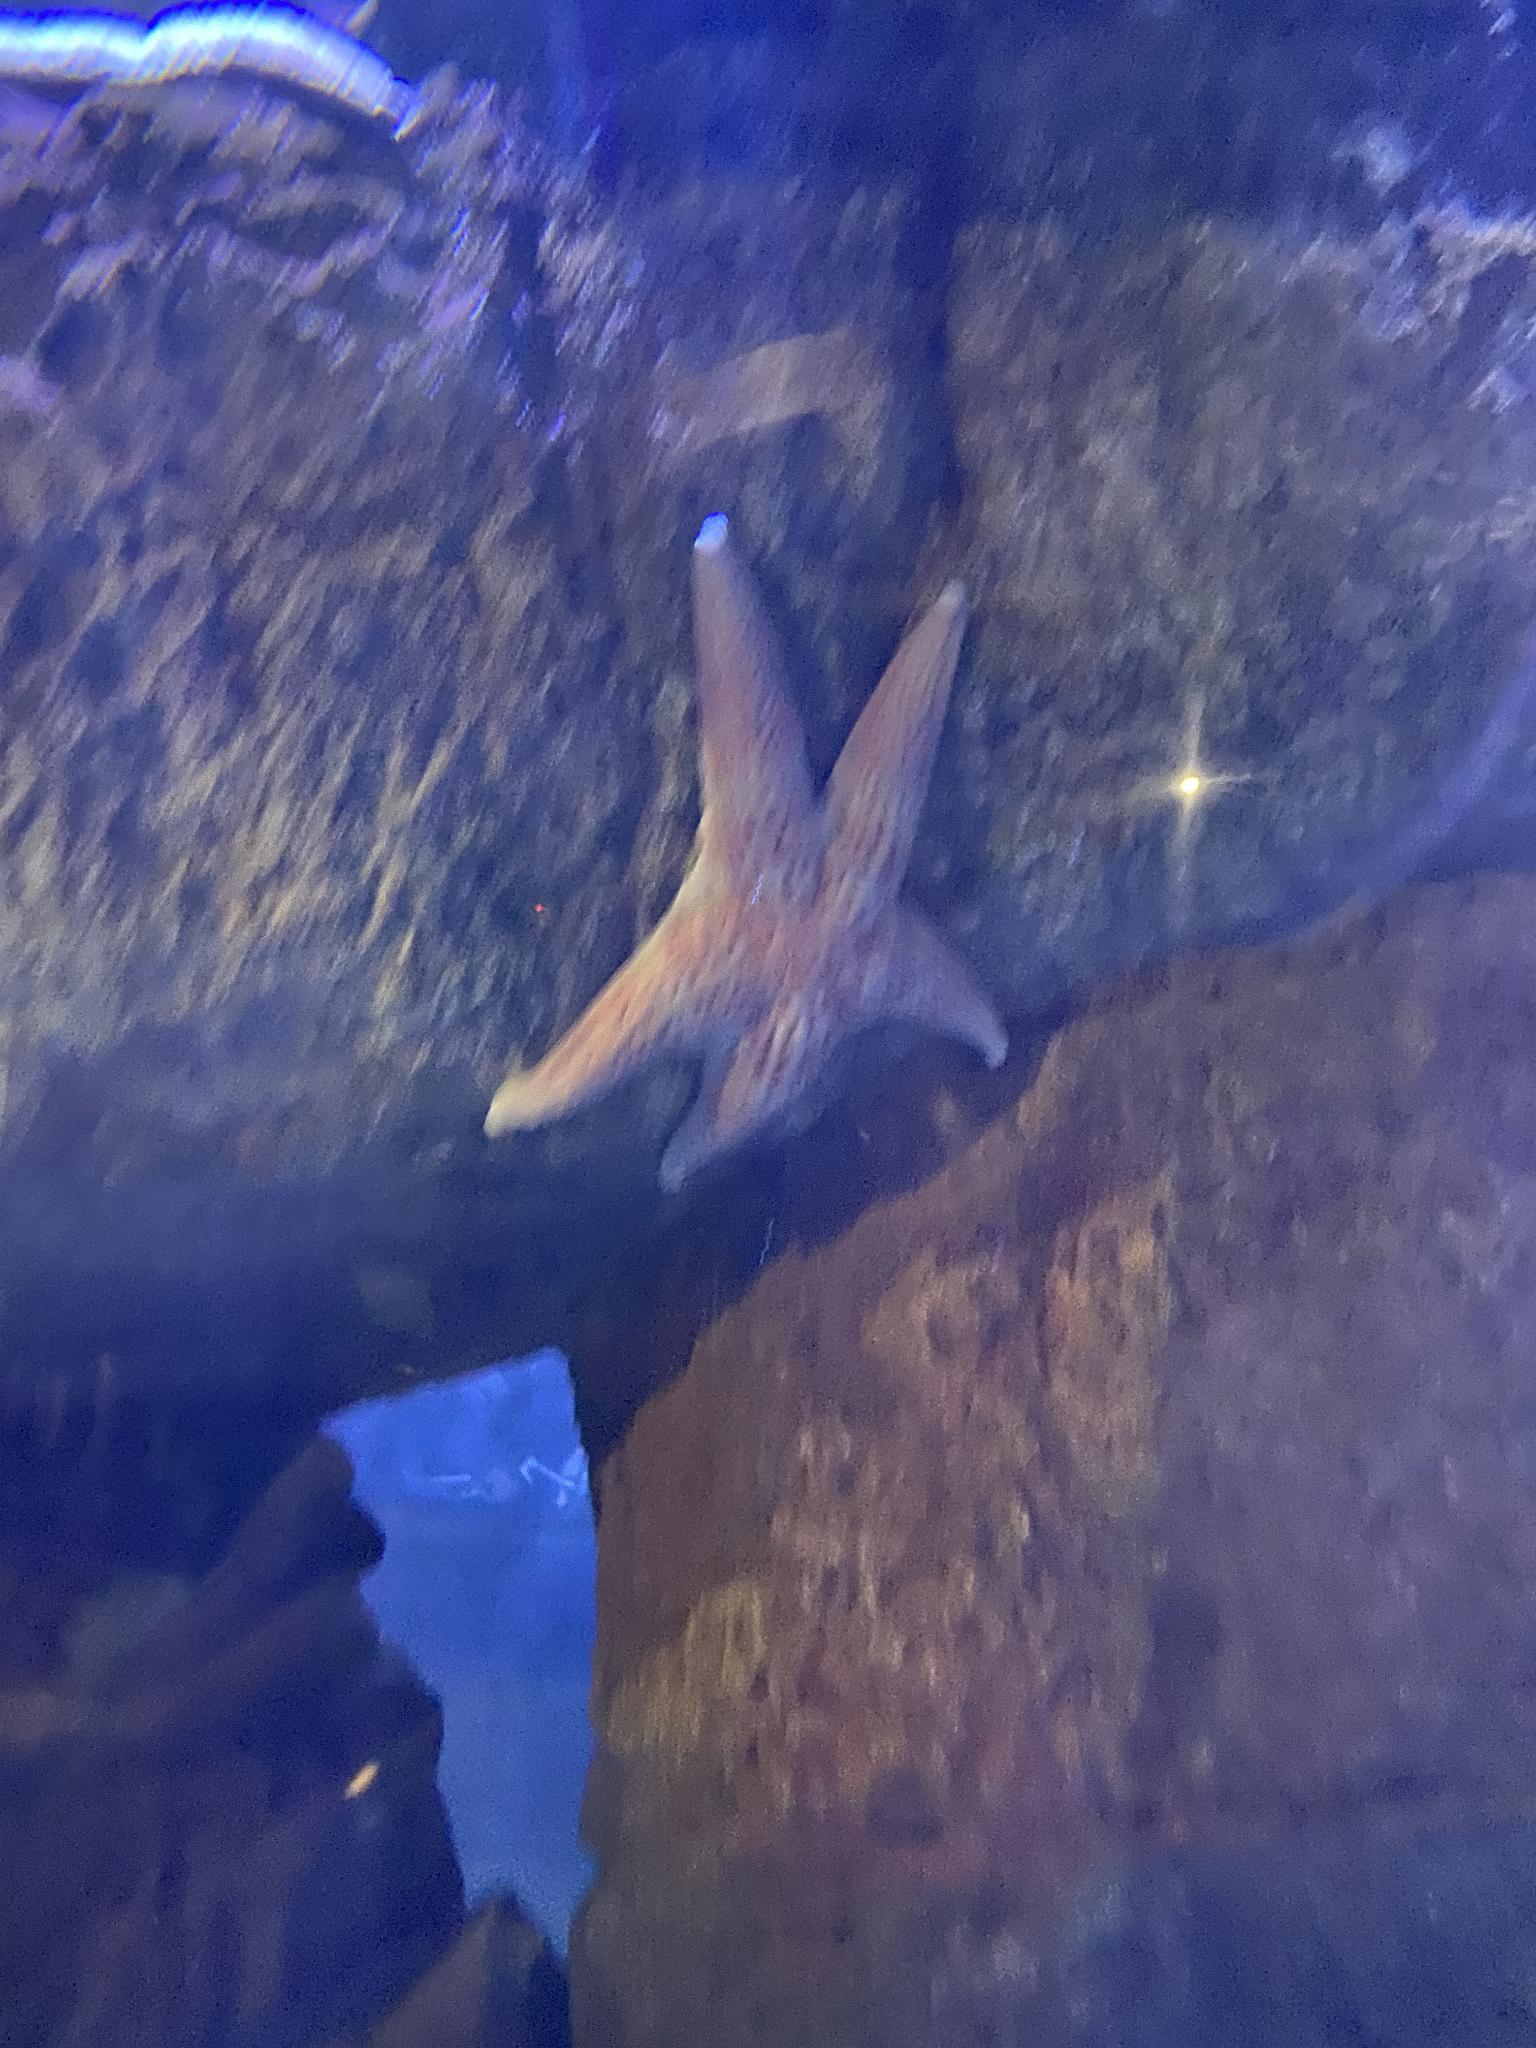starfish: (482, 510, 1008, 1200)
